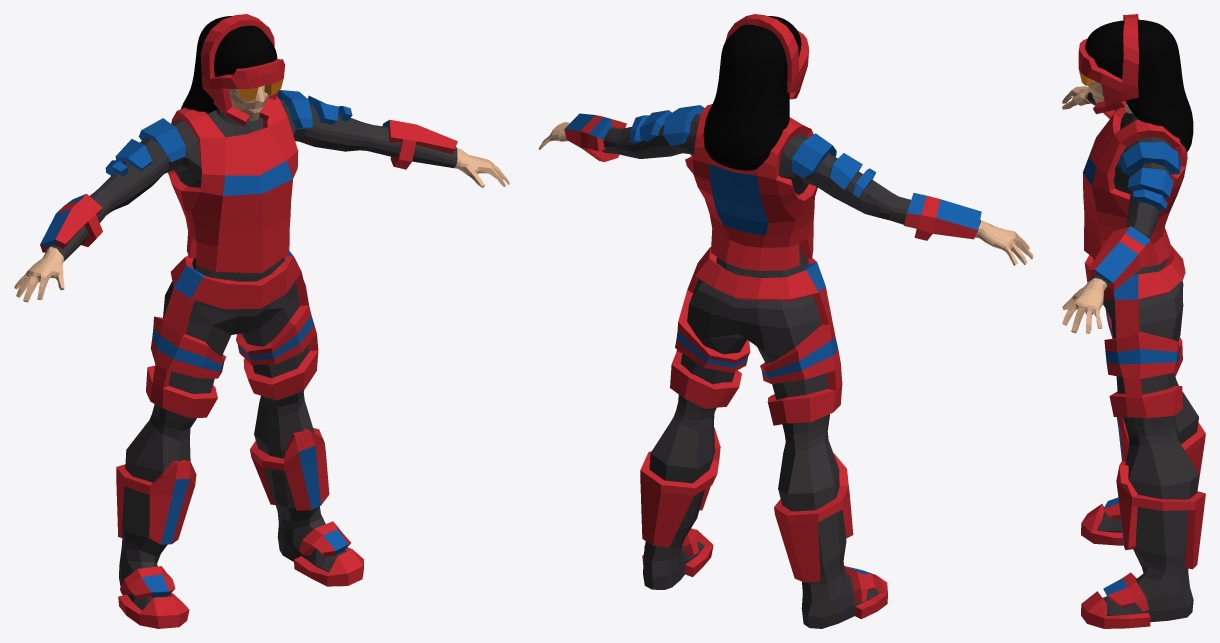
Rendered from Personaje Rojo.fbx.
The picture shows the model from 3 angles, left to right: view 1: azimuth 30°, elevation 25°; view 2: azimuth 150°, elevation 25°; view 3: azimuth 270°, elevation 25°; orthographic projection. The views are drawn at different scales.
Parts seen in each view (by area): view 1: Plane.002, Plane.001, Sphere.001; view 2: Plane.002, Plane.001, Sphere.001; view 3: Plane.002, Plane.001, Sphere.001.
Boxes of the visible parts, x1,y1,x2,y2 form: Plane.002: (40,14,457,628); Plane.001: (14,85,509,610); Sphere.001: (181,16,277,113); Plane.002: (564,14,981,619); Plane.001: (538,114,1033,628); Sphere.001: (703,16,801,170); Plane.002: (1078,14,1205,628); Plane.001: (1062,81,1198,622); Sphere.001: (1085,19,1193,151).
Bounding box in the file's own units: 161 × 181 × 42.25.
